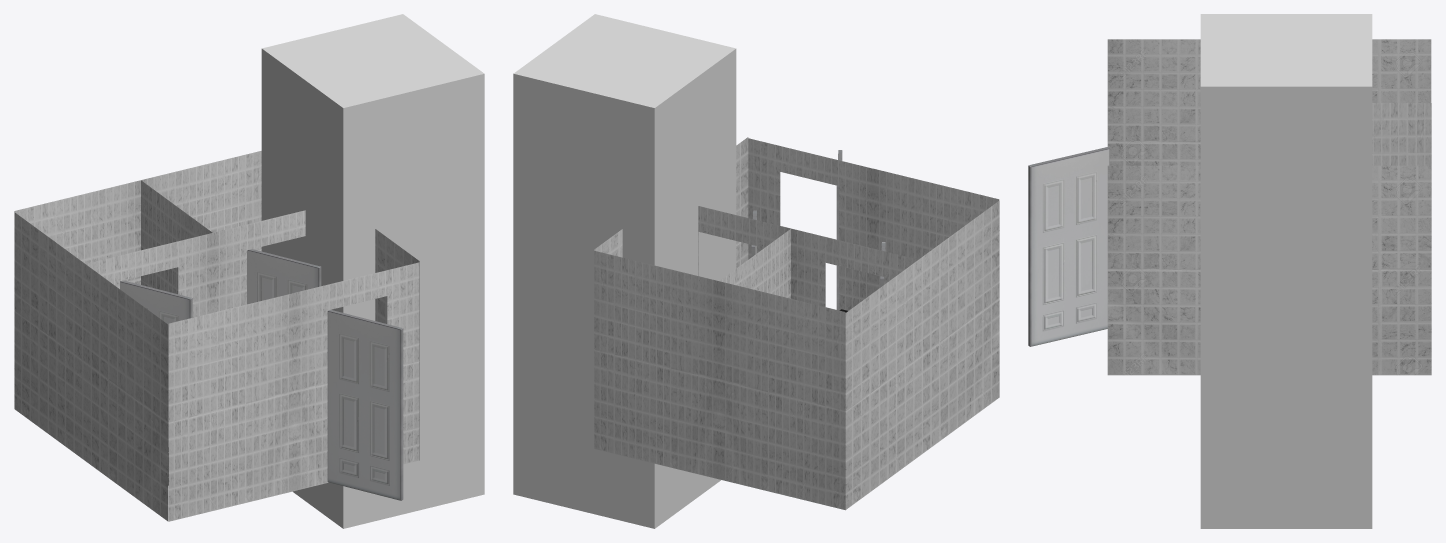
Rendered from toilet.gltf.glb.
3 renders of one model, left to right at view 1: azimuth 30°, elevation 25°; view 2: azimuth 150°, elevation 25°; view 3: azimuth 270°, elevation 25°, orthographic. The views are drawn at different scales.
Parts seen in each view (by area): view 1: Cube, wall02.001, wall01.005, Plane, wall01.004, wall01.002, wall01, wall01.003, wall01.001, wall03.001, Plane.002, Plane.001 (+1 smaller); view 2: Cube, wall02.001, wall01.002, wall01, wall01.004, wall01.005, wall01.003, wall03.001, wall01.001, wall02; view 3: Cube, wall02, wall02.001, Plane, wall03.001.
Part boxes in pixels (x1,y1,x2,y2): Cube: (261, 14, 484, 528); wall02.001: (14, 212, 168, 521); wall01.005: (168, 293, 294, 521); Plane: (327, 310, 403, 500); wall01.004: (294, 262, 419, 490); wall01.002: (14, 180, 140, 408); wall01: (140, 151, 261, 284); wall01.003: (86, 233, 212, 317); wall01.001: (213, 210, 305, 312); wall03.001: (141, 180, 212, 294); Plane.002: (247, 249, 321, 304); Plane.001: (120, 280, 192, 446); Cube: (513, 14, 736, 528); wall02.001: (845, 200, 999, 509); wall01.002: (719, 281, 845, 510); wall01: (594, 251, 719, 479); wall01.004: (748, 138, 872, 310); wall01.005: (873, 168, 999, 292); wall01.003: (791, 228, 917, 306); wall03.001: (719, 229, 790, 298); wall01.001: (698, 206, 791, 298); wall02: (594, 137, 748, 268); Cube: (1200, 14, 1372, 528); wall02: (1107, 165, 1431, 375); wall02.001: (1107, 39, 1431, 165); Plane: (1028, 147, 1109, 346); wall03.001: (1372, 103, 1431, 165).
Size of the model in its own units: 5.1 by 5.69 by 4.7.
13 materials, 7 textured.
